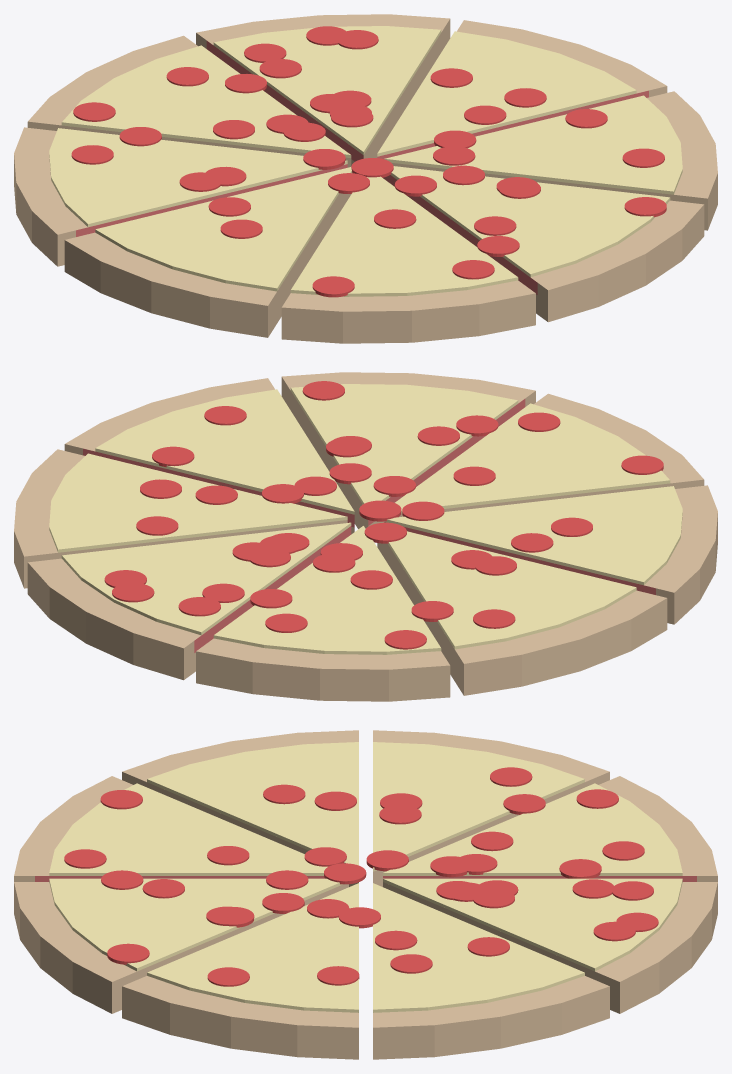
The model's file is pizzatopping.glb.
3 renders of one model, top to bottom at view 1: azimuth 30°, elevation 25°; view 2: azimuth 150°, elevation 25°; view 3: azimuth 270°, elevation 25°, orthographic.
Visible parts, largest first — view 1: Cheese, Crust, Sauce, Pepperoni_28, Pepperoni_29, Pepperoni_32, Pepperoni_3, Pepperoni_6, Pepperoni_25, Pepperoni_5, Pepperoni_22, Pepperoni_31 (+28 smaller); view 2: Cheese, Crust, Sauce, Pepperoni_5, Pepperoni_3, Pepperoni_0, Pepperoni_29, Pepperoni_32, Pepperoni_39, Pepperoni_40, Pepperoni_49, Pepperoni_25 (+27 smaller); view 3: Cheese, Crust, Sauce, Pepperoni_5, Pepperoni_49, Pepperoni_29, Pepperoni_6, Pepperoni_27, Pepperoni_0, Pepperoni_39, Pepperoni_4, Pepperoni_8 (+29 smaller).
Part boxes in pixels (box(x1,y1,x2,y2)): Cheese: box(49, 26, 682, 296); Crust: box(14, 14, 717, 343); Sauce: box(76, 41, 648, 294); Pepperoni_28: box(312, 276, 354, 297); Pepperoni_29: box(303, 149, 345, 169); Pepperoni_32: box(394, 175, 436, 196); Pepperoni_3: box(477, 236, 519, 256); Pepperoni_6: box(624, 197, 666, 217); Pepperoni_25: box(328, 173, 369, 193); Pepperoni_5: box(351, 158, 393, 177); Pepperoni_22: box(73, 102, 115, 121); Pepperoni_31: box(208, 197, 250, 216); Cheese: box(49, 384, 682, 654); Crust: box(14, 372, 717, 701); Sauce: box(83, 399, 655, 652); Pepperoni_5: box(359, 500, 401, 521); Pepperoni_3: box(456, 415, 498, 436); Pepperoni_0: box(329, 463, 371, 484); Pepperoni_29: box(364, 522, 406, 543); Pepperoni_32: box(373, 476, 415, 496); Pepperoni_39: box(411, 601, 453, 621); Pepperoni_40: box(152, 446, 194, 467); Pepperoni_49: box(250, 589, 292, 608); Pepperoni_25: box(402, 501, 444, 520); Cheese: box(49, 742, 682, 1012); Crust: box(14, 730, 717, 1059); Sauce: box(35, 876, 696, 881); Pepperoni_5: box(324, 863, 366, 884); Pepperoni_49: box(559, 859, 601, 878); Pepperoni_29: box(366, 850, 408, 871); Pepperoni_6: box(107, 943, 149, 964); Pepperoni_27: box(430, 856, 472, 877); Pepperoni_0: box(262, 893, 304, 913); Pepperoni_39: box(503, 794, 545, 814); Pepperoni_4: box(338, 907, 380, 928); Pepperoni_8: box(64, 849, 106, 868).
Size of the model in its own units: 9.98 by 0.575 by 9.98.
